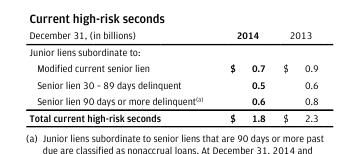table: (28, 28, 317, 122)
table column: (28, 28, 215, 122), (215, 28, 273, 122), (273, 28, 317, 122)
table column header: (28, 28, 317, 43)
table projected row header: (28, 43, 317, 59)
table row: (28, 75, 317, 92), (28, 43, 317, 59), (28, 59, 317, 75), (28, 92, 317, 108), (28, 28, 317, 43), (28, 108, 317, 122)
